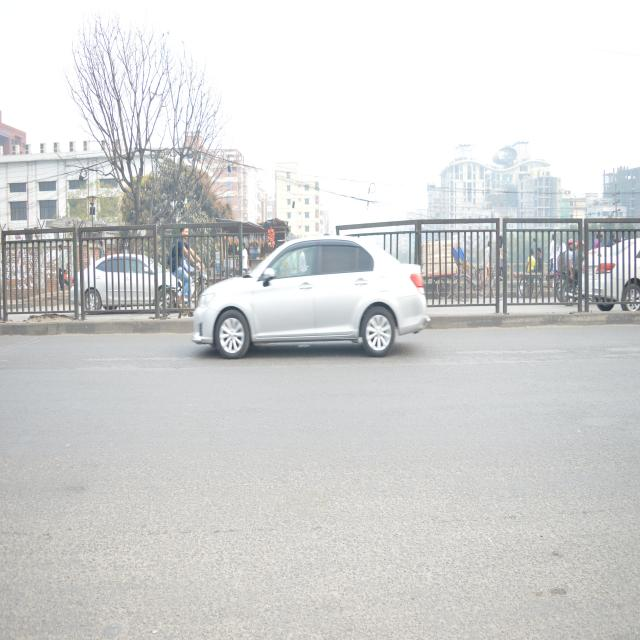car: (187, 225, 428, 366), (68, 246, 179, 316), (586, 229, 640, 319)
motorbike: (543, 250, 575, 308)
